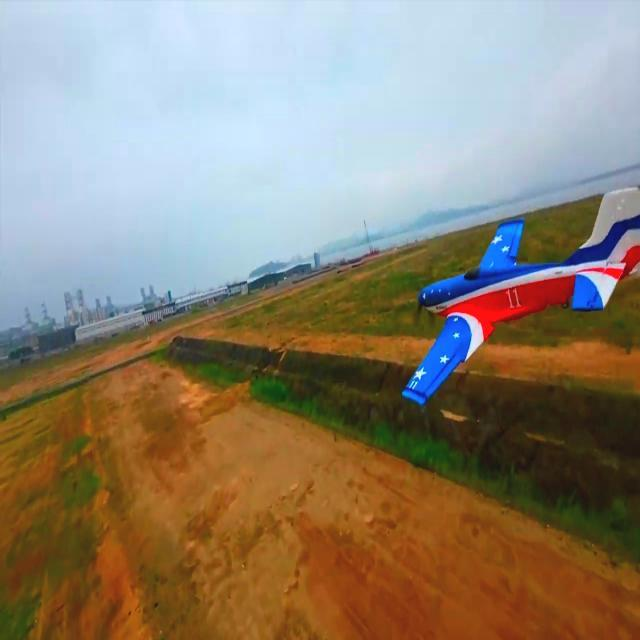iha: (392, 169, 639, 412)
